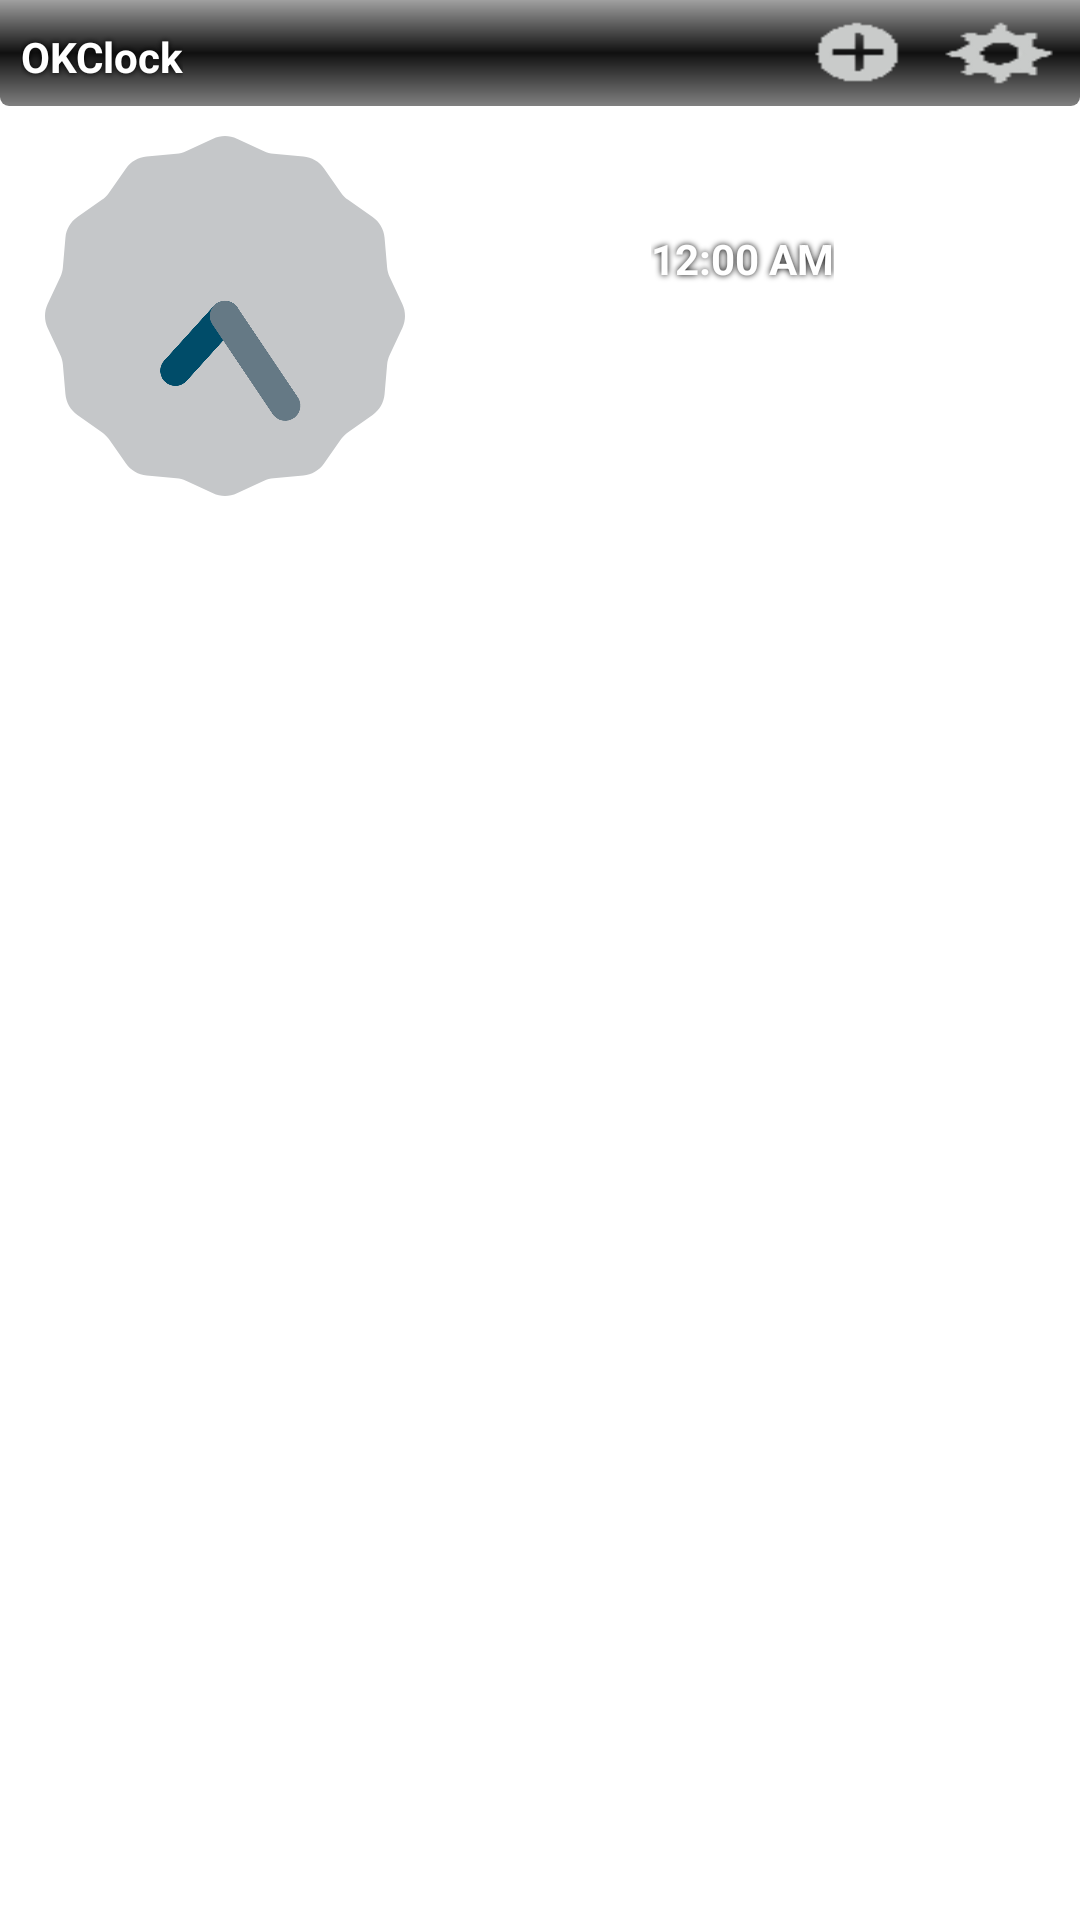

Screen size 1080px x 1920px. Icon name, then its box in pixels as (x1, y1, x2, y2):
addclock: (813, 22, 903, 81)
settings: (939, 22, 1059, 83)
